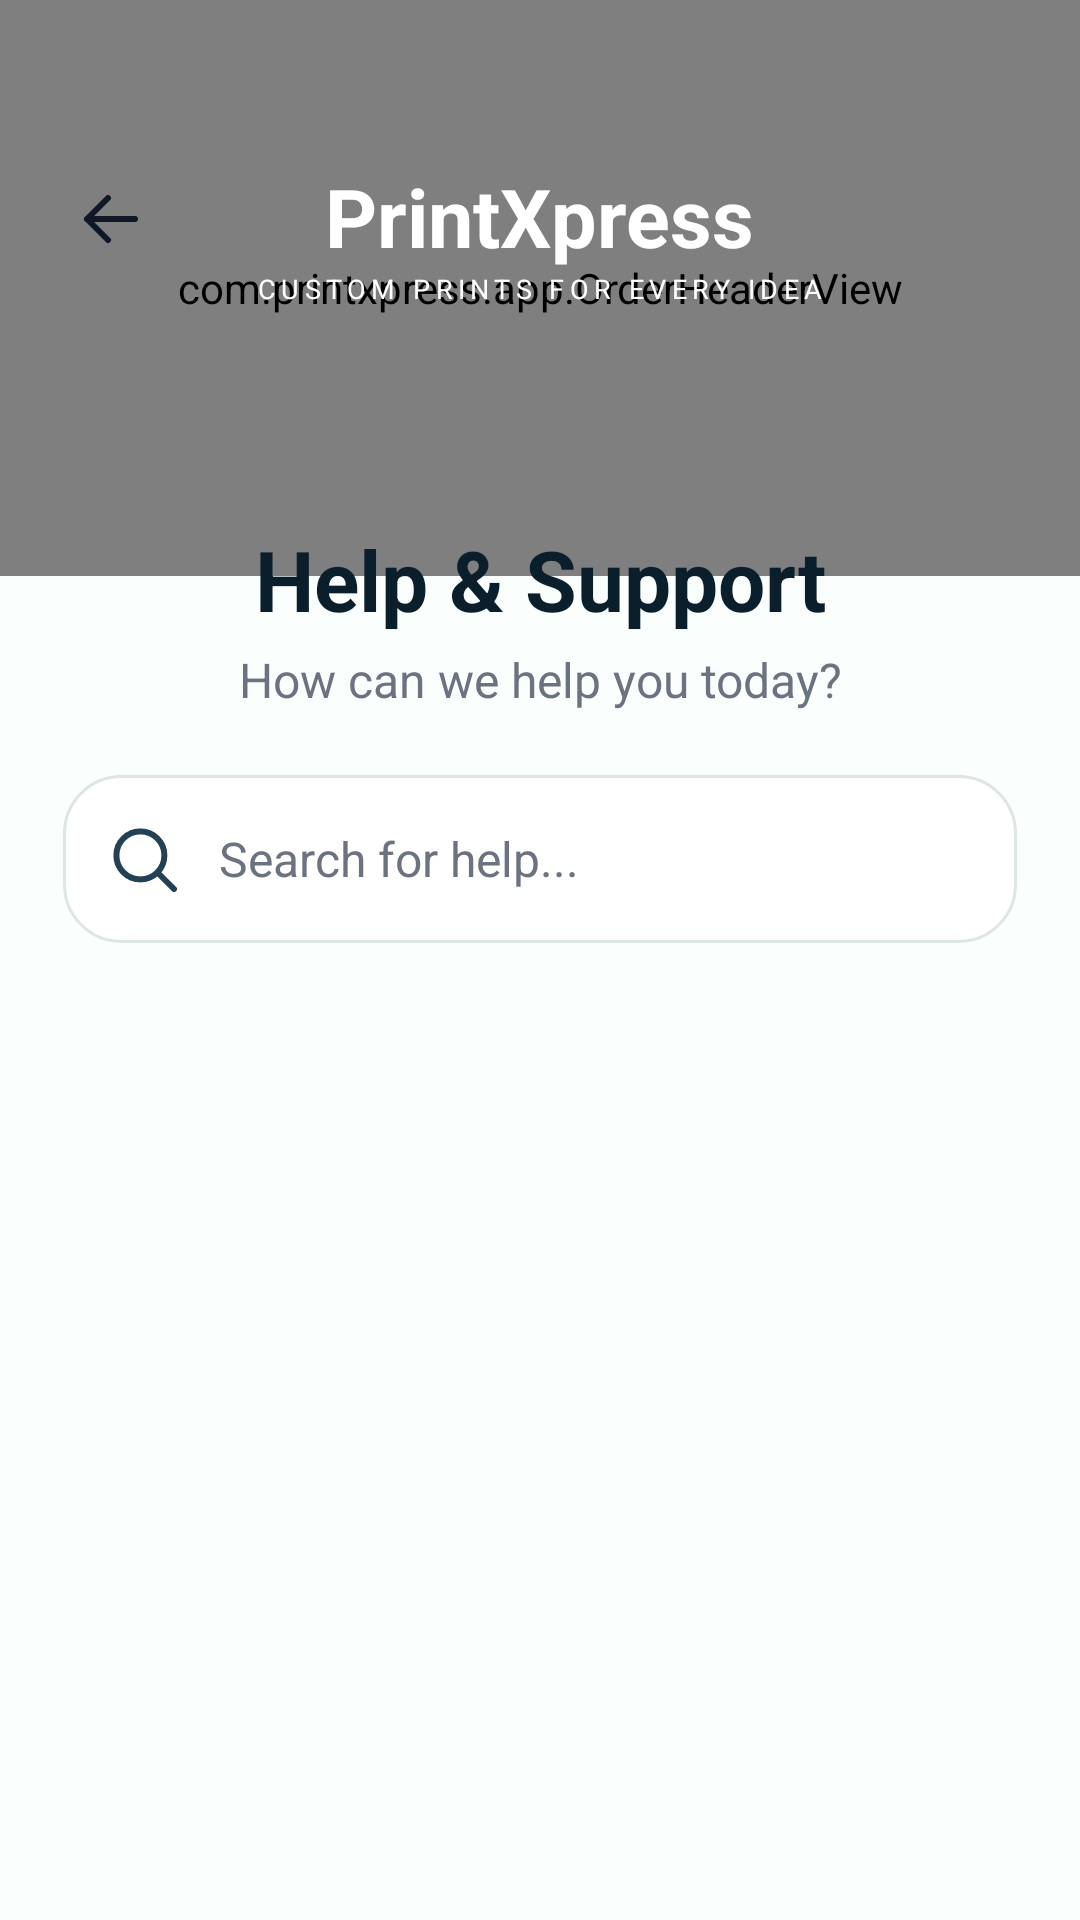

Where icons sit on this 1080 × 1920 app screen, as (x1, y1, x2, y2):
Back to profile: (84, 195, 138, 243)
